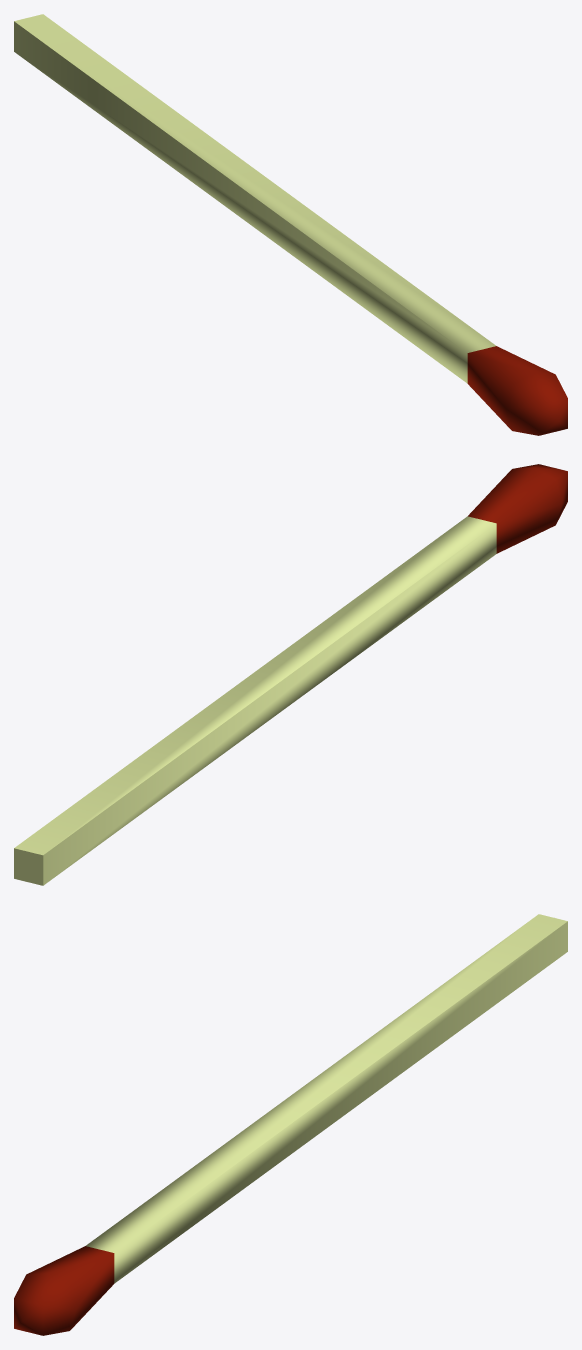
The model's file is Matchstick.fbx.
The picture shows the model from 3 angles, top to bottom: view 1: azimuth 30°, elevation 25°; view 2: azimuth 150°, elevation 25°; view 3: azimuth 330°, elevation 25°; orthographic projection.
Visible parts, largest first — view 1: match; view 2: match; view 3: match.
Boxes of the visible parts, box(x1,y1,x2,y2) form: match: box(14, 14, 567, 435); match: box(14, 464, 567, 885); match: box(14, 914, 567, 1335).
Size of the model in its own units: 11.52 by 11.52 by 189.
